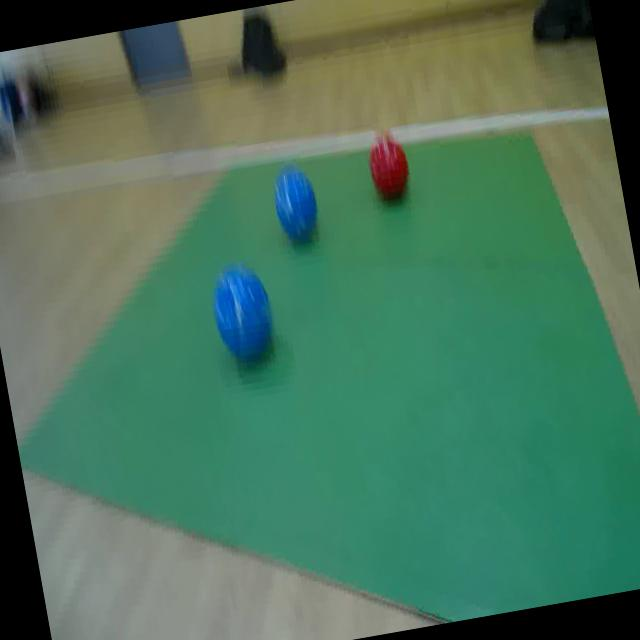blue_ball: (201, 243, 285, 376), (266, 160, 324, 250)
red_ball: (362, 136, 414, 204)
